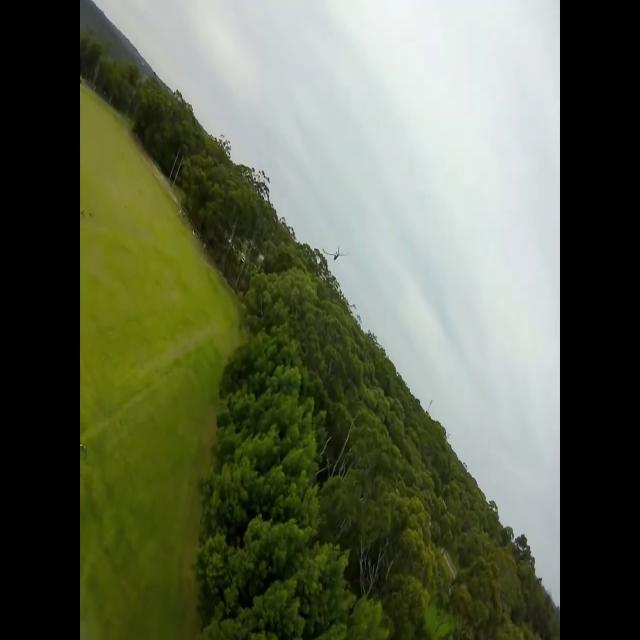iha: (323, 247, 350, 261)
